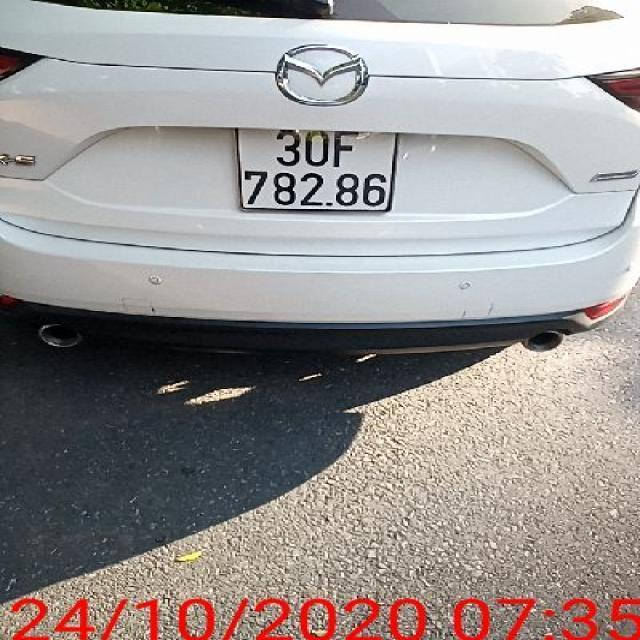bien_so_oto: (234, 126, 402, 215)
